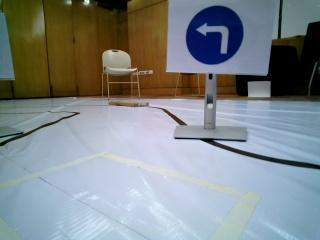left: (174, 1, 254, 69)
